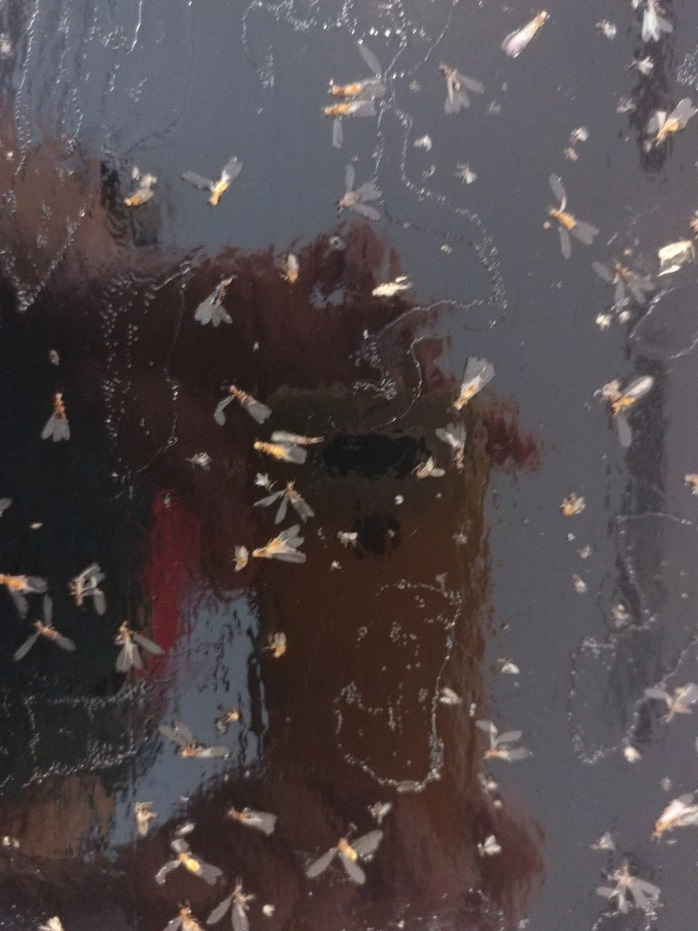flying termite: (250, 428, 312, 474), (37, 384, 82, 443), (244, 524, 303, 569), (320, 98, 384, 119)
